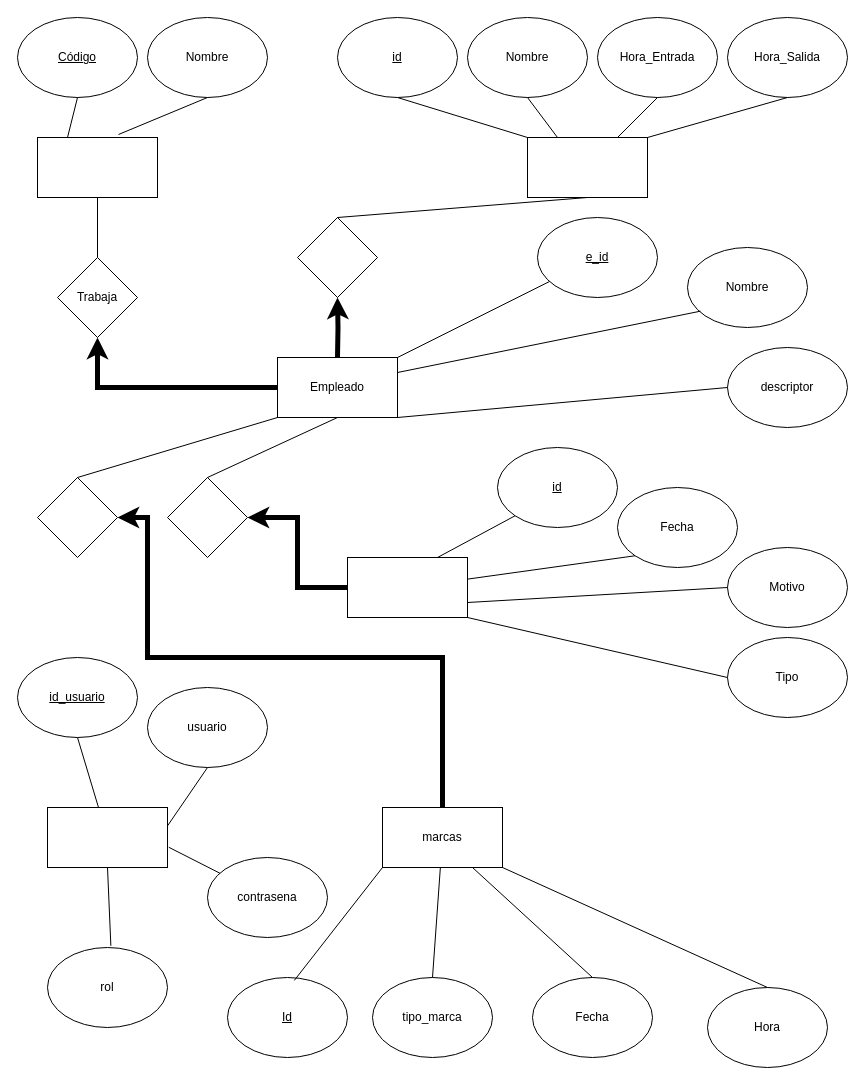
Image size: 865x1085. Some labels were removed from this diagram. The shapes that lost their labels are listed below. From the top down, each one's centre as x and y in pixels, then its label:
At [97,167]: "Departamento".
At [587,167]: "Jornada".
At [337,257]: "Horario".
At [77,517]: "Marca".
At [207,517]: "Tiene".
At [407,587]: "Permisos".
At [107,837]: "Ingreso_Salida".
